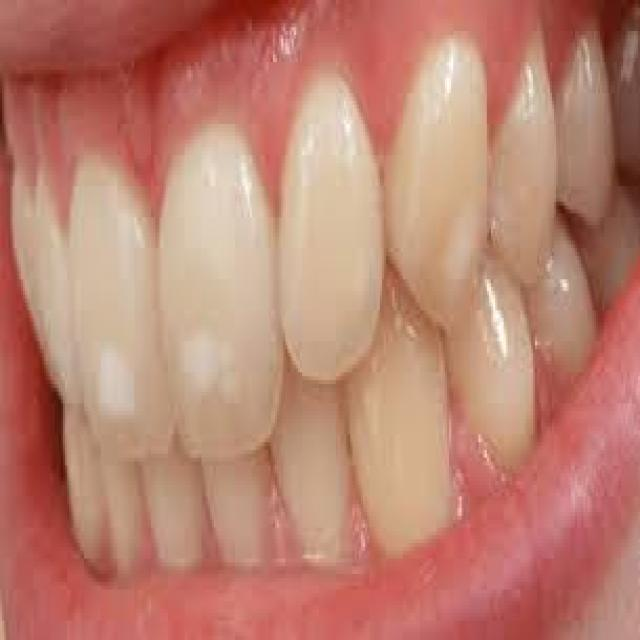tooth: (172, 163, 275, 442), (283, 104, 378, 368), (74, 194, 162, 450), (401, 46, 485, 306), (355, 376, 447, 524), (15, 186, 69, 404), (495, 70, 554, 264), (560, 31, 611, 217), (286, 392, 348, 535), (470, 314, 531, 458), (212, 458, 273, 566), (153, 458, 202, 566), (546, 280, 588, 372), (107, 462, 143, 558), (73, 462, 101, 562), (596, 221, 629, 287)
